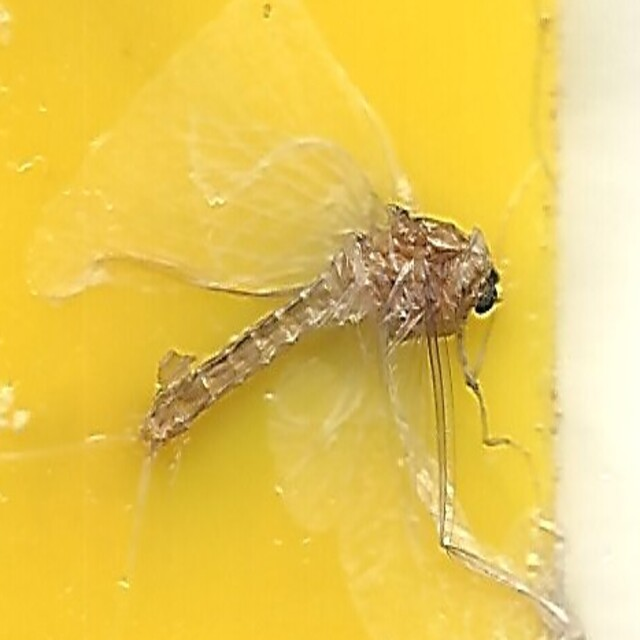Ephemeroptera: (137, 202, 503, 438)
